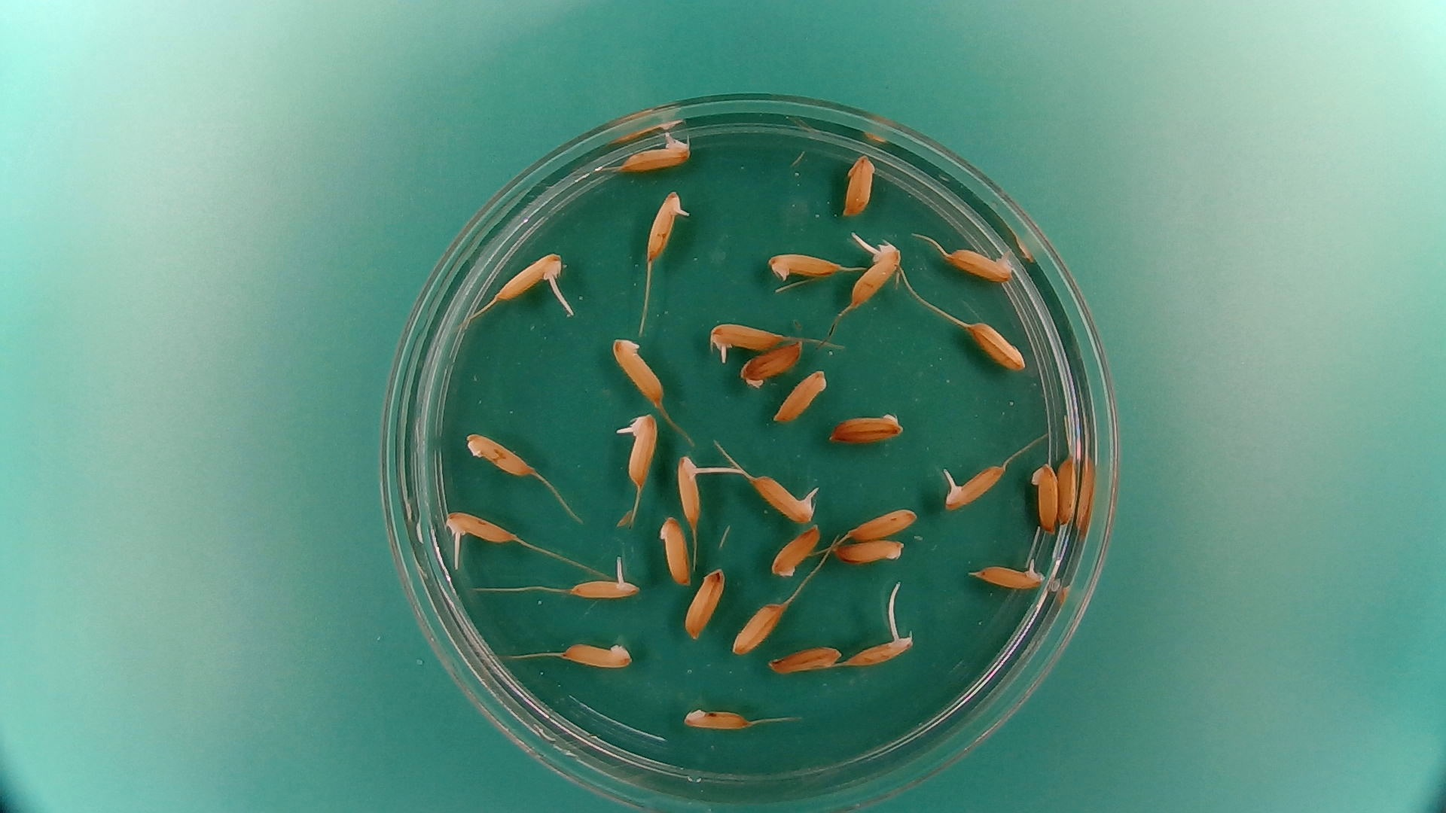no: (611, 336, 667, 405), (739, 336, 807, 389), (463, 430, 538, 478), (964, 319, 1030, 373), (762, 247, 846, 288), (773, 367, 831, 426), (828, 406, 907, 448), (683, 565, 726, 641), (769, 523, 825, 580), (729, 600, 785, 654), (844, 504, 920, 542), (559, 636, 636, 672), (765, 643, 843, 678), (656, 516, 691, 586), (841, 151, 877, 219), (1029, 459, 1060, 534), (681, 702, 755, 732), (1055, 452, 1083, 528), (831, 539, 909, 566)
yes: (488, 254, 569, 300), (643, 187, 692, 263), (938, 460, 1008, 513), (748, 473, 818, 525), (614, 129, 694, 172), (617, 410, 660, 489), (705, 318, 786, 359), (853, 239, 901, 305), (968, 552, 1047, 592), (439, 507, 517, 547), (839, 628, 913, 670), (942, 243, 1016, 283), (676, 452, 706, 527), (567, 574, 638, 603)
